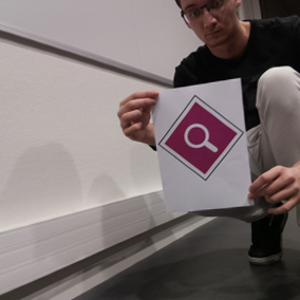search: (159, 94, 243, 181)
